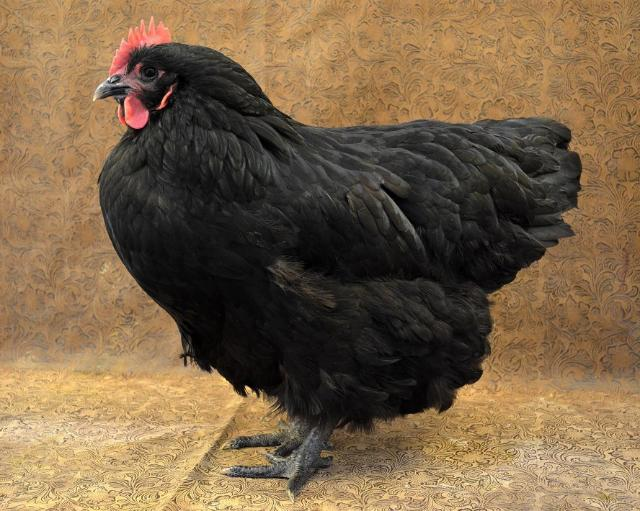Chicken: (92, 14, 583, 491)
